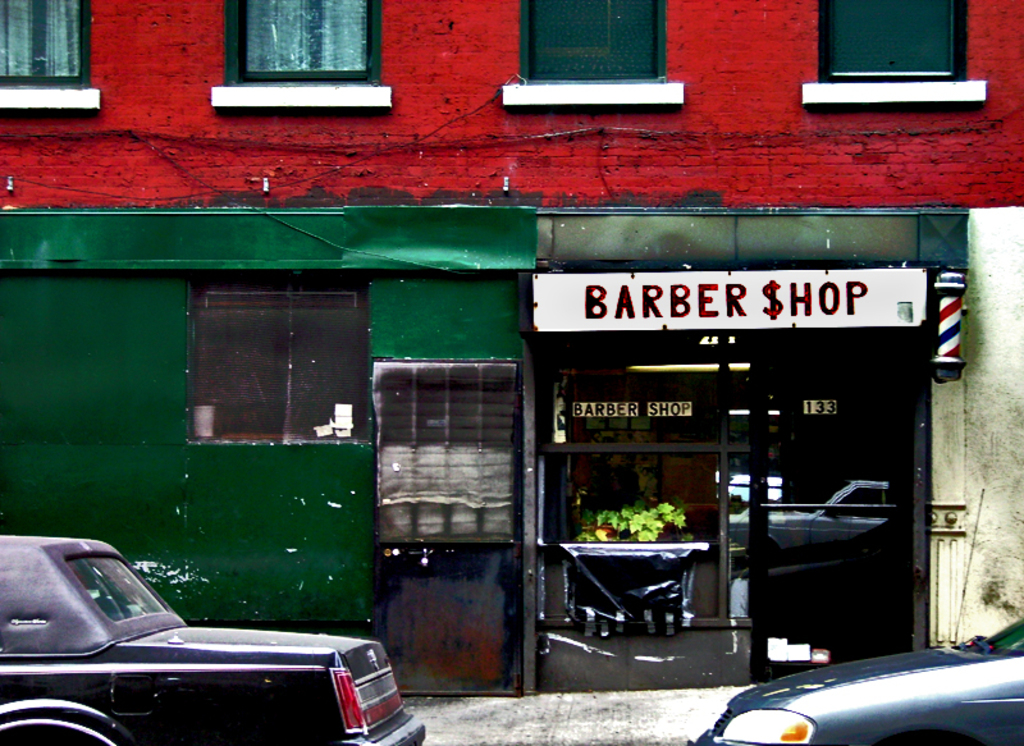Car: (0, 528, 412, 744), (692, 484, 1022, 744), (725, 478, 889, 547)
